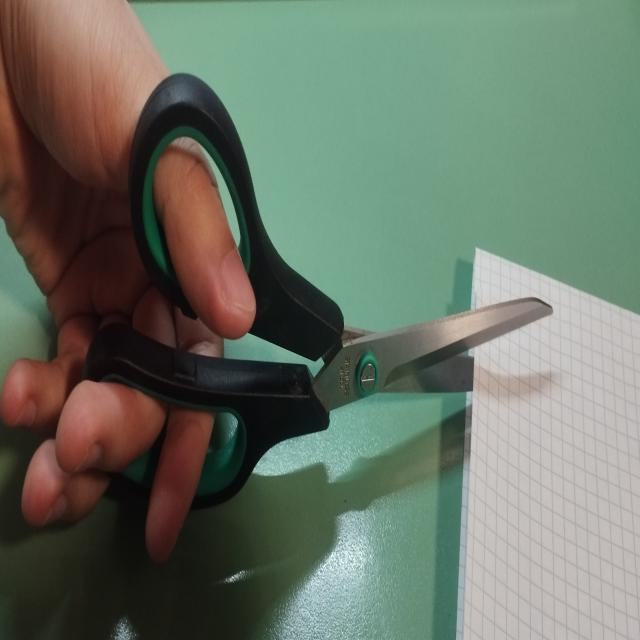tesoura: (76, 63, 558, 521)
